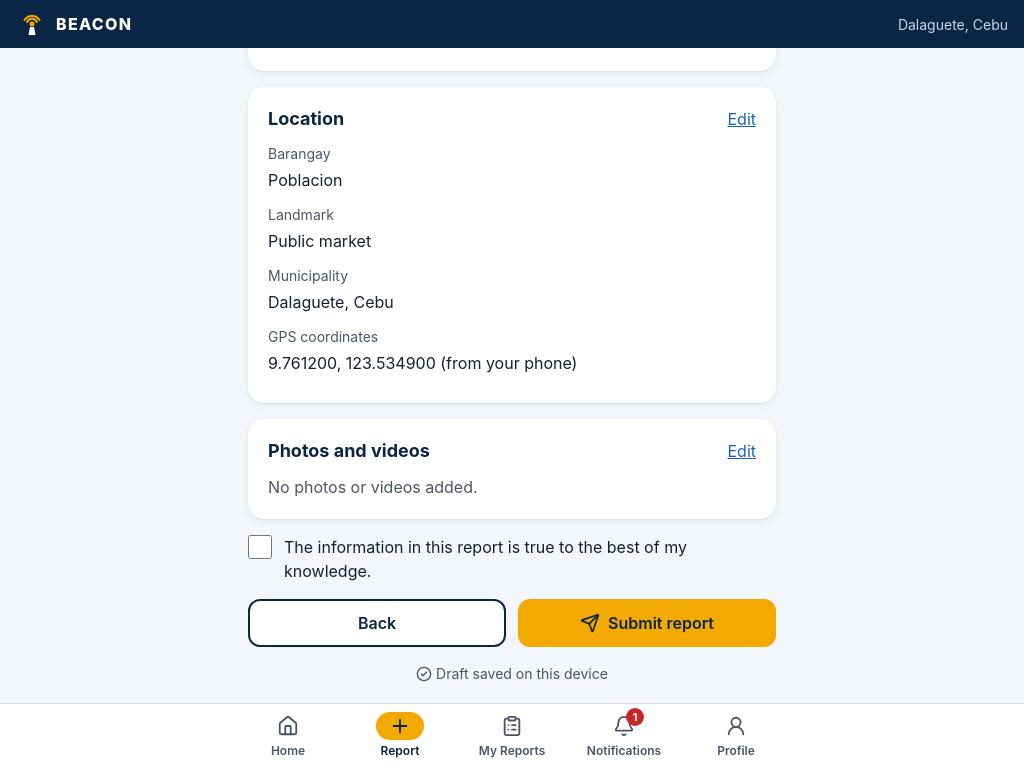
Scenario: review and submit › requires the resident to confirm the information
(page scrolled)
Step 1. Click the button "Submit report" → (647, 623), box [518,599,776,647]
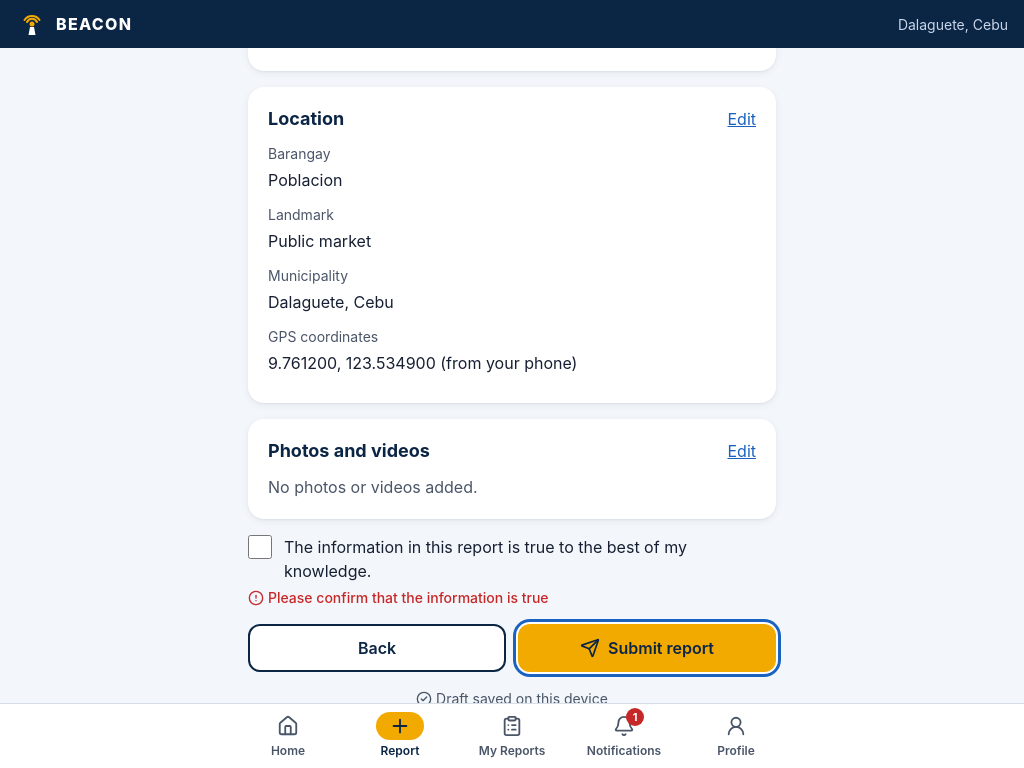
Check: the text "Please confirm that the information is true" is shown, box [248,589,549,606]
